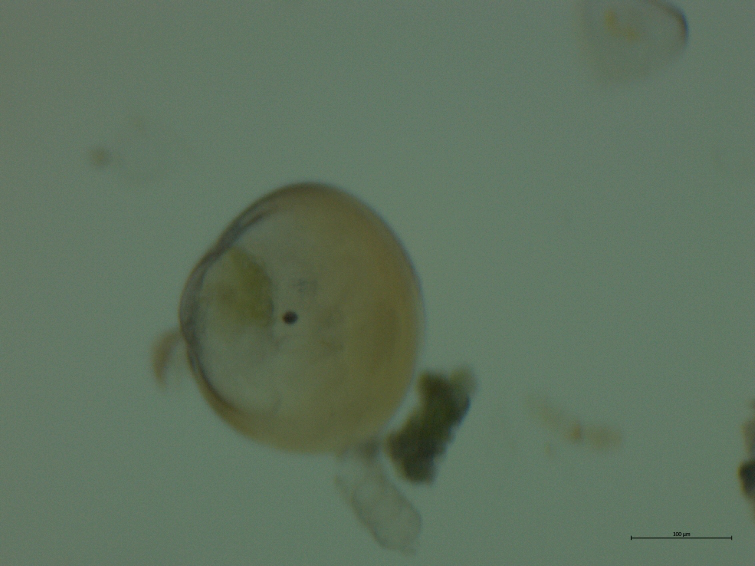oyster: (163, 176, 435, 464)
